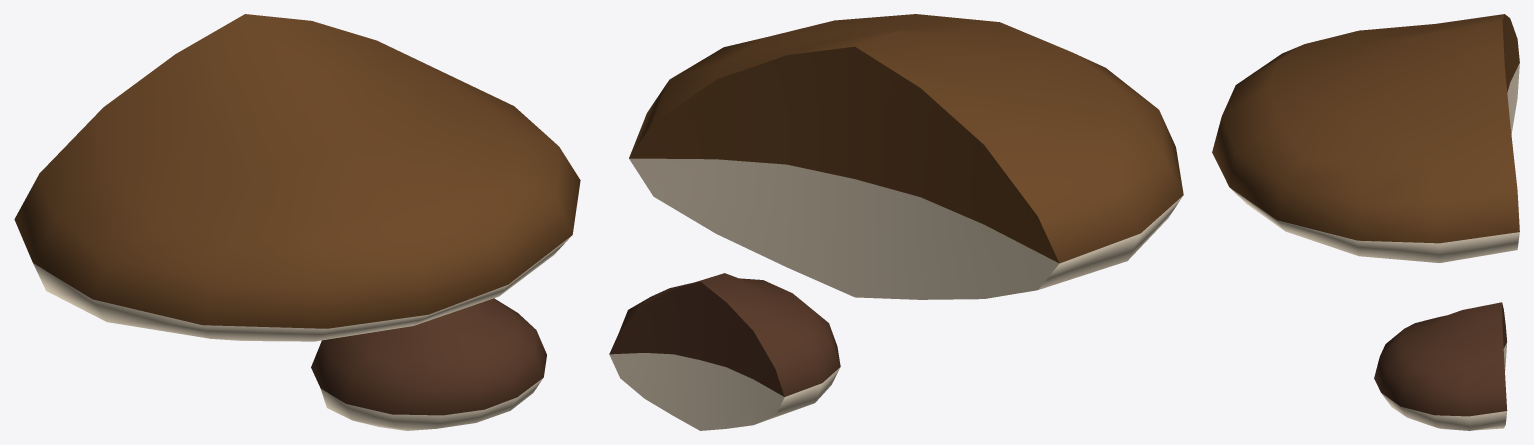
The model's file is Artists_Conk_Group_1.glb.
The picture shows the model from 3 angles, left to right: view 1: azimuth 30°, elevation 25°; view 2: azimuth 150°, elevation 25°; view 3: azimuth 270°, elevation 25°; orthographic projection. The views are drawn at different scales.
Visible parts, largest first — view 1: Artists_Conk_Group_1; view 2: Artists_Conk_Group_1; view 3: Artists_Conk_Group_1.
Boxes of the visible parts, <box> form: Artists_Conk_Group_1: <box>14,14,580,430</box>; Artists_Conk_Group_1: <box>609,14,1183,430</box>; Artists_Conk_Group_1: <box>1212,14,1519,430</box>.
Bounding box in the file's own units: 0.5678 × 0.4549 × 0.3722.
1 material, 1 textured.
